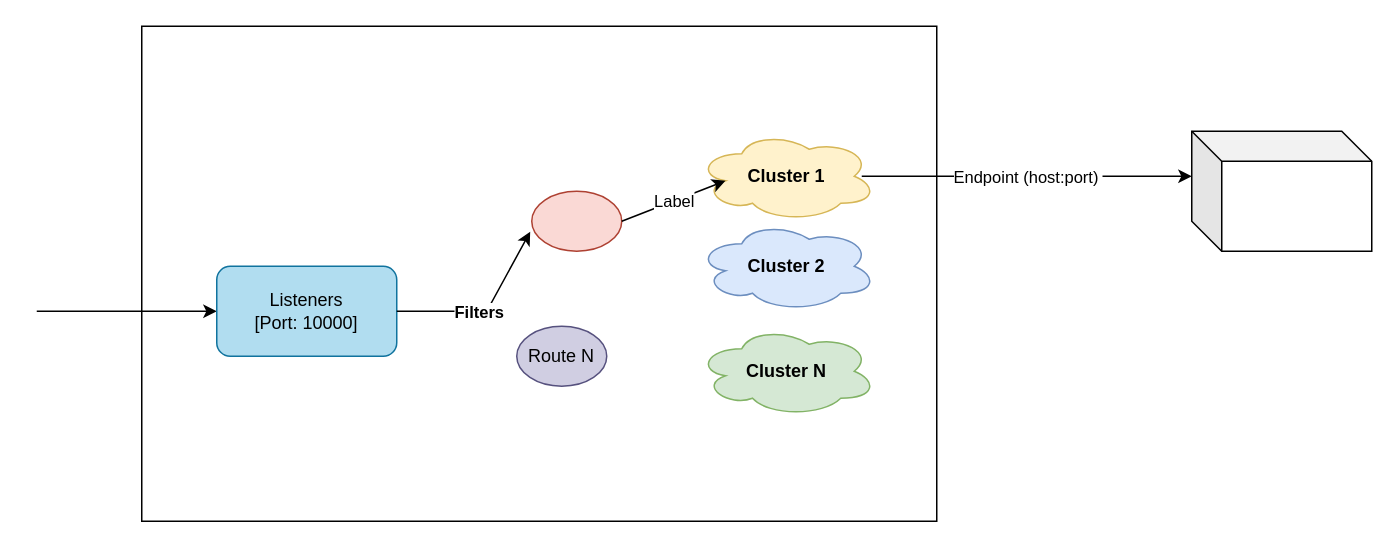
The diagram is 1398 pixels wide and 548 high, and some of its shapes have lost their labels. Each missing label, with the box of its shape:
Application: (1190, 130, 1372, 251)
Route 1: (530, 190, 622, 251)
